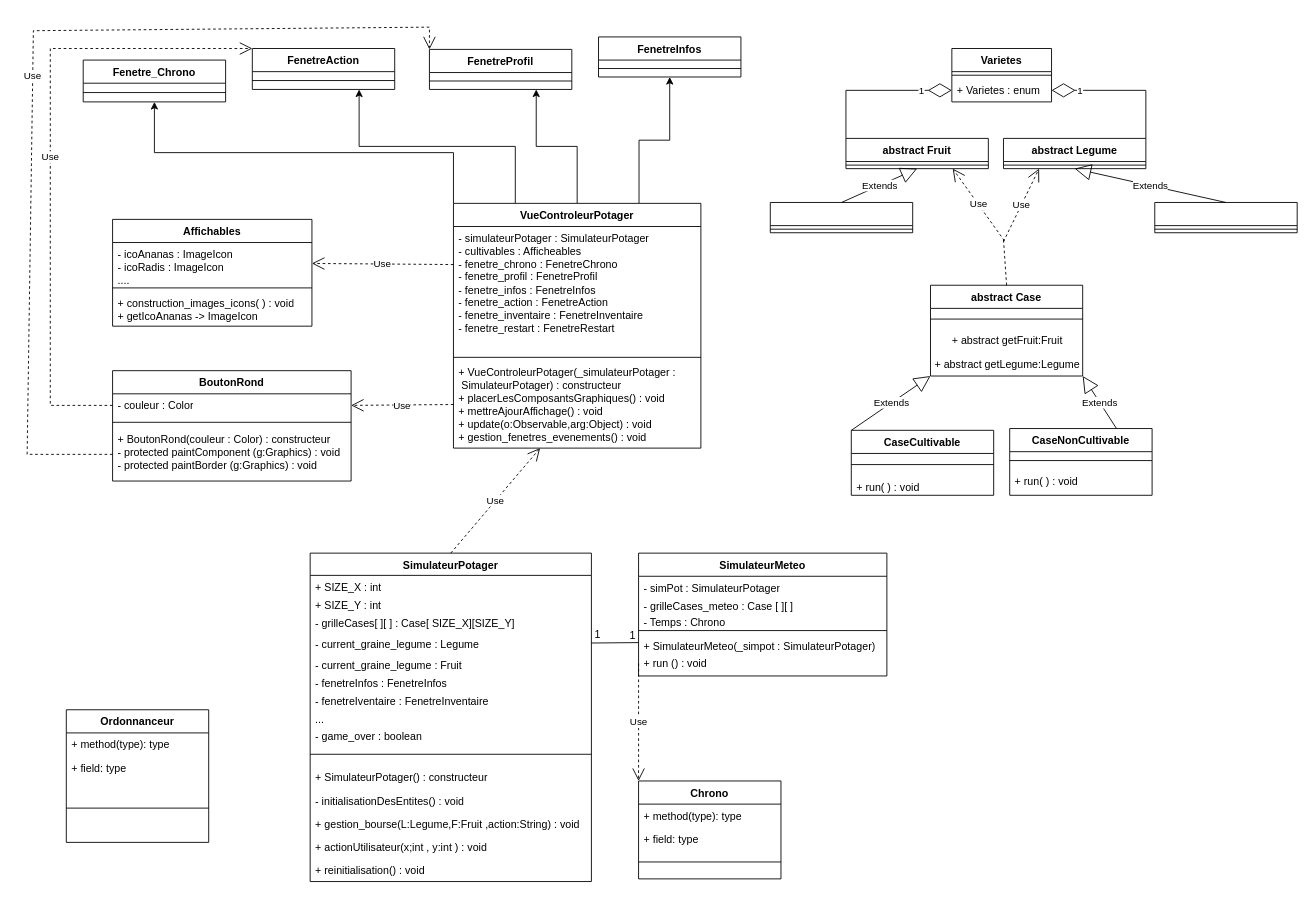
This 1313x900 diagram has some shape labels left out. The shapes that lost their labels are listed below. From the top down, each one's centre as x and y in pixels, then its label:
At (x=841, y=217): "Ananas".
At (x=1225, y=217): "Radis".
